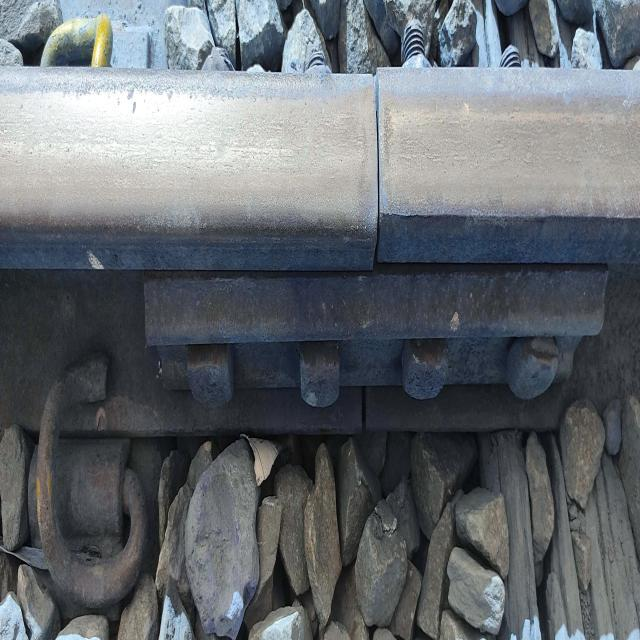Good Fasteners: (24, 326, 152, 624), (41, 16, 102, 66), (91, 15, 113, 67)
Good Joint: (144, 264, 607, 435)
